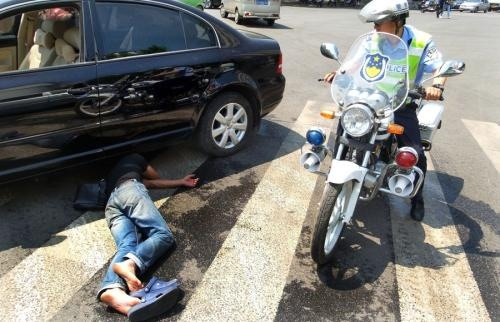falling: (84, 138, 209, 320)
